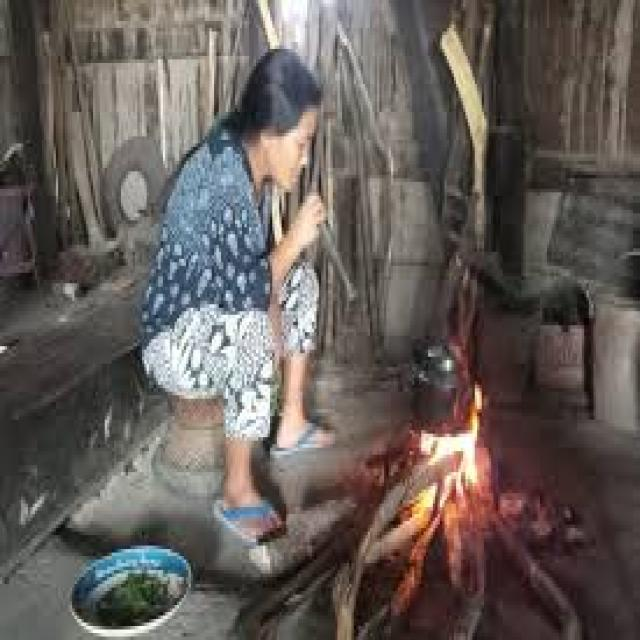fire: (413, 430, 477, 514)
